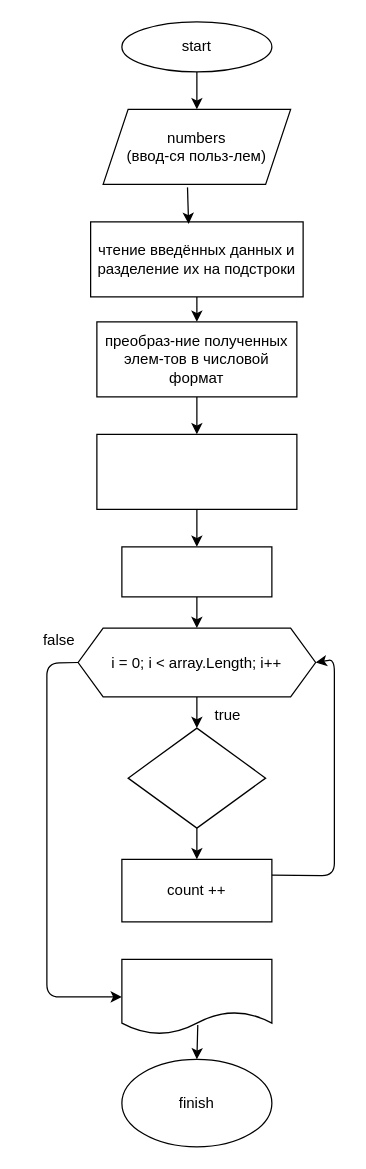
Some shapes in this 366 by 1169 pixel diagram are drawn without their labels. Here are the shapes that lost their labels. From the top down, the centre of each, then its label:
point 196,471: вывод на экран полученного массива
point 196,571: int count = 0
point 196,777: array [i] > 0
point 196,996: count
